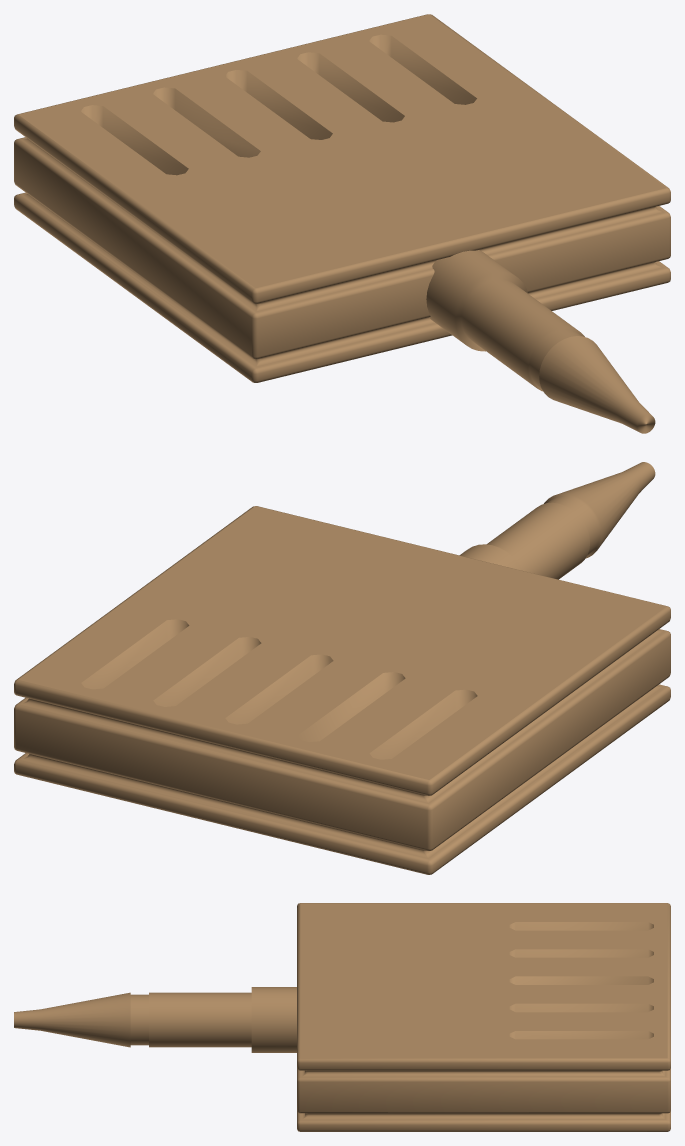
File: router_tier4.fbx
3 renders of one model, top to bottom at view 1: azimuth 30°, elevation 25°; view 2: azimuth 150°, elevation 25°; view 3: azimuth 270°, elevation 25°, orthographic. The views are drawn at different scales.
Parts seen in each view (by area): view 1: Sphere.001, Sphere.003; view 2: Sphere.001, Sphere.003; view 3: Sphere.001, Sphere.003.
Part boxes in pixels (bbox=[...]): Sphere.001: bbox=[14, 14, 670, 382]; Sphere.003: bbox=[426, 250, 655, 433]; Sphere.001: bbox=[14, 506, 670, 874]; Sphere.003: bbox=[459, 462, 655, 579]; Sphere.001: bbox=[297, 903, 670, 1131]; Sphere.003: bbox=[14, 987, 296, 1052].
Size of the model in its own units: 0.3945 by 0.0854 by 0.6928.
